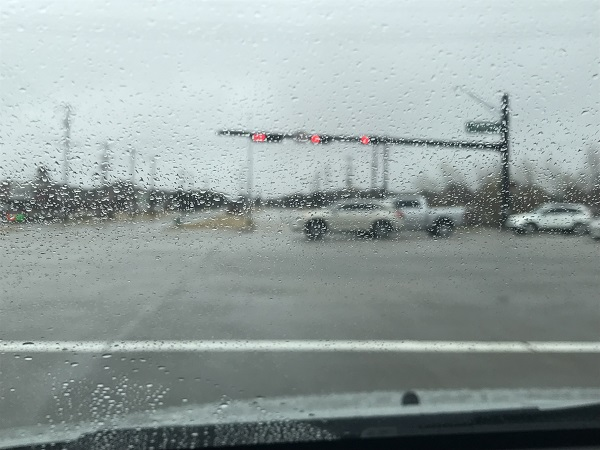car: (287, 197, 406, 238), (507, 200, 589, 237)
truck: (387, 194, 467, 238)
